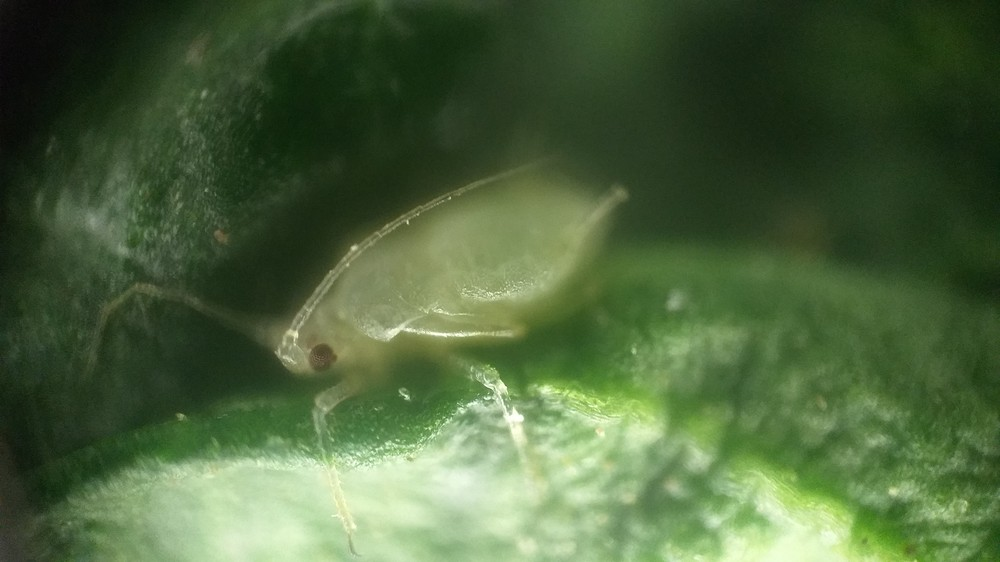Pulgon: (224, 123, 693, 523)
